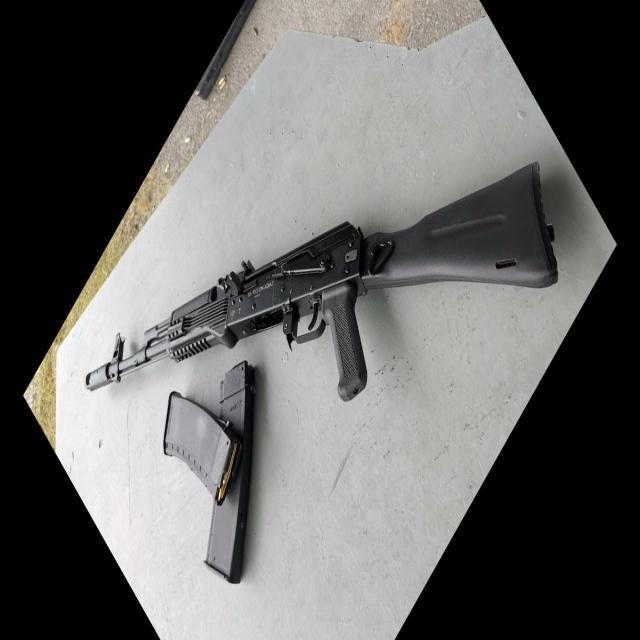weapon: (84, 158, 558, 404)
